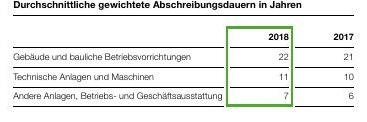table: (0, 0, 367, 122)
